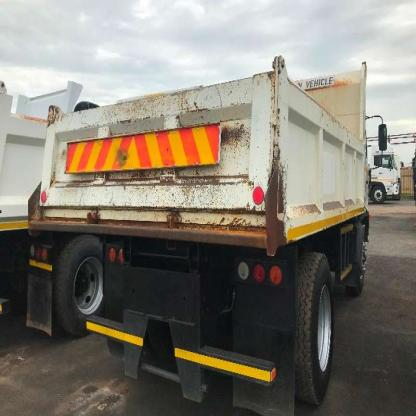dump_truck: (38, 41, 383, 409)
